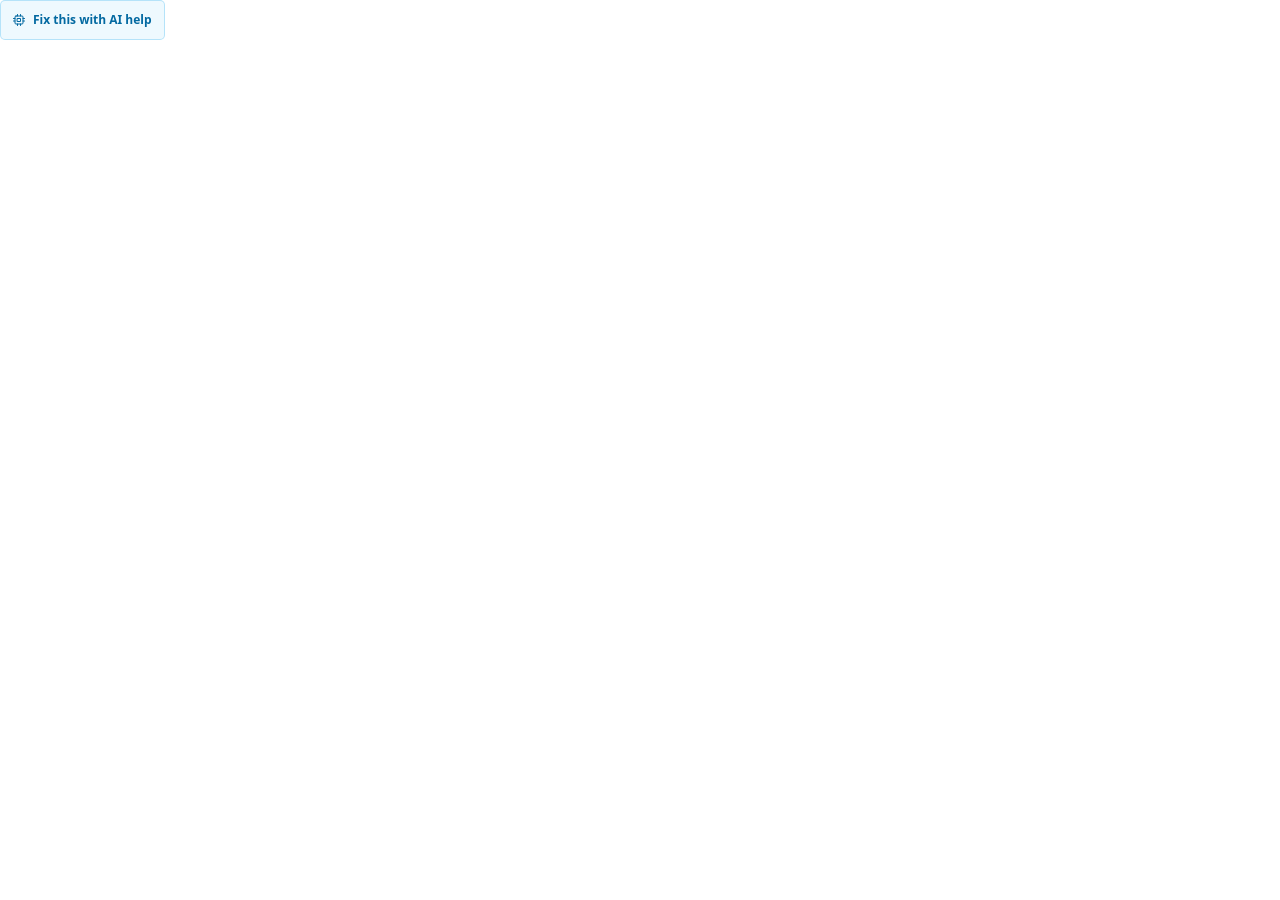
applying a remediation › offers to put it back once it has written
Later steps or results of the test are not shown.
Click the button "Fix this with AI help": (82, 20) [0,0,165,40]
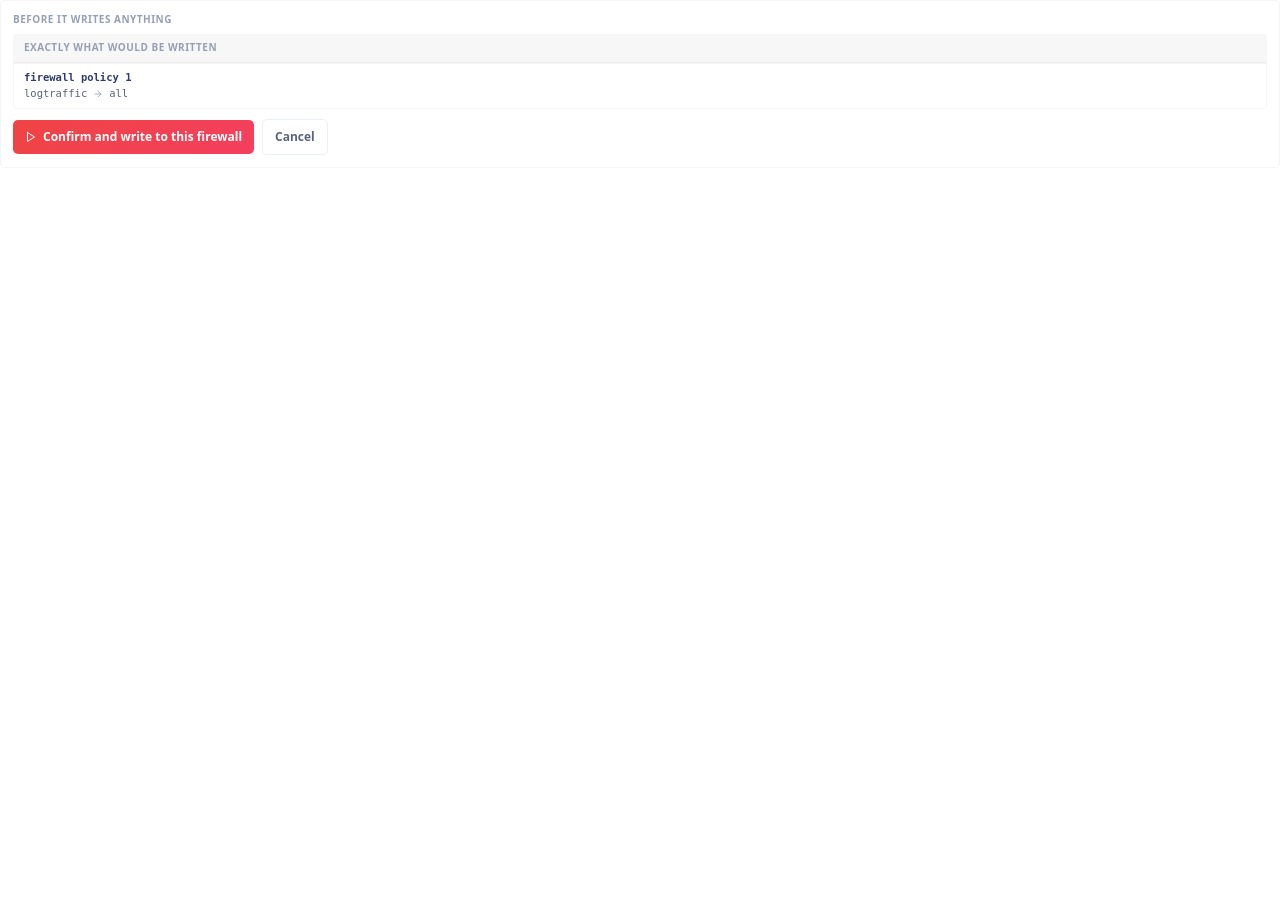
Click the button "Confirm and write to this firewall": (134, 136) [13,120,254,154]
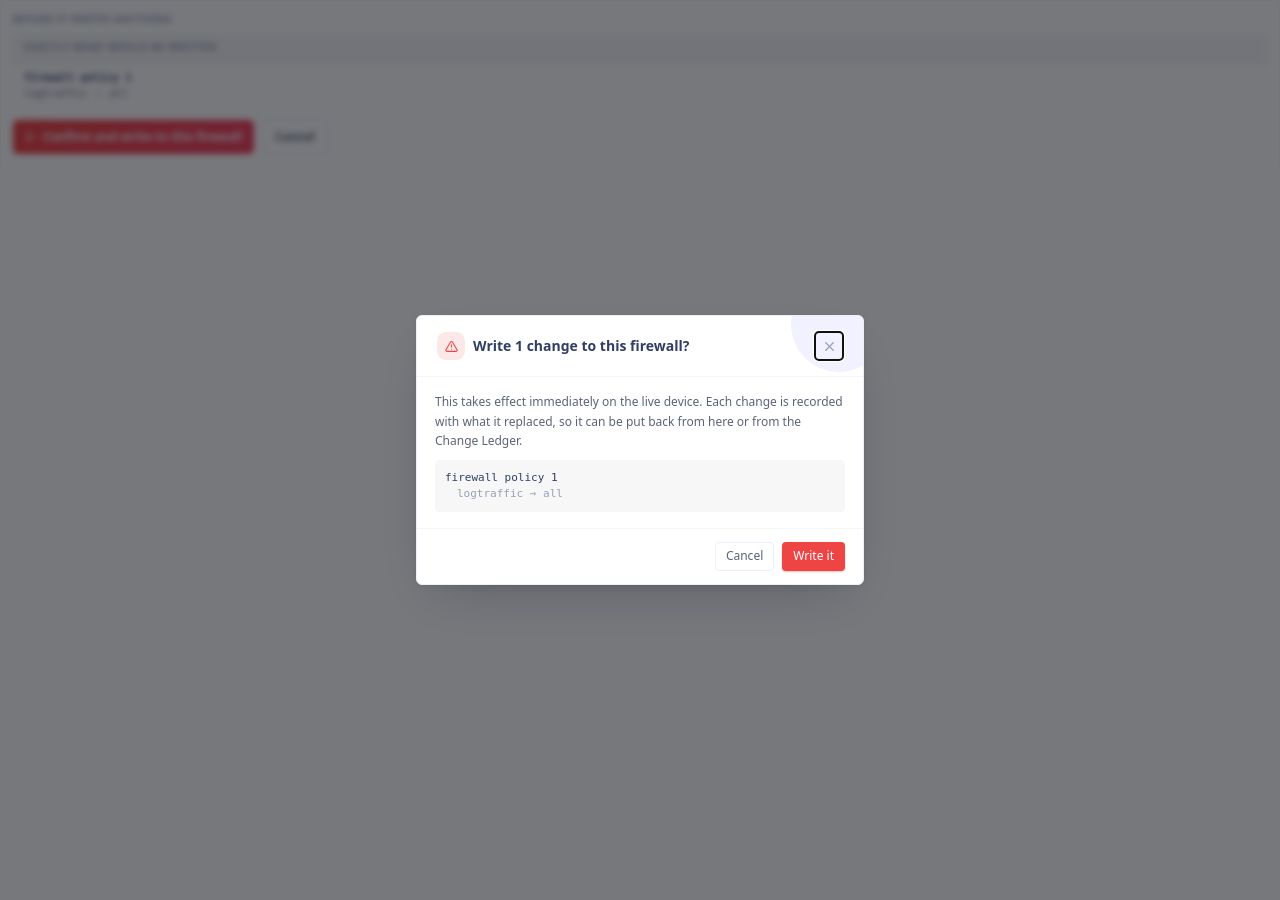
Click the button "Write it": (814, 556) [782,542,845,571]
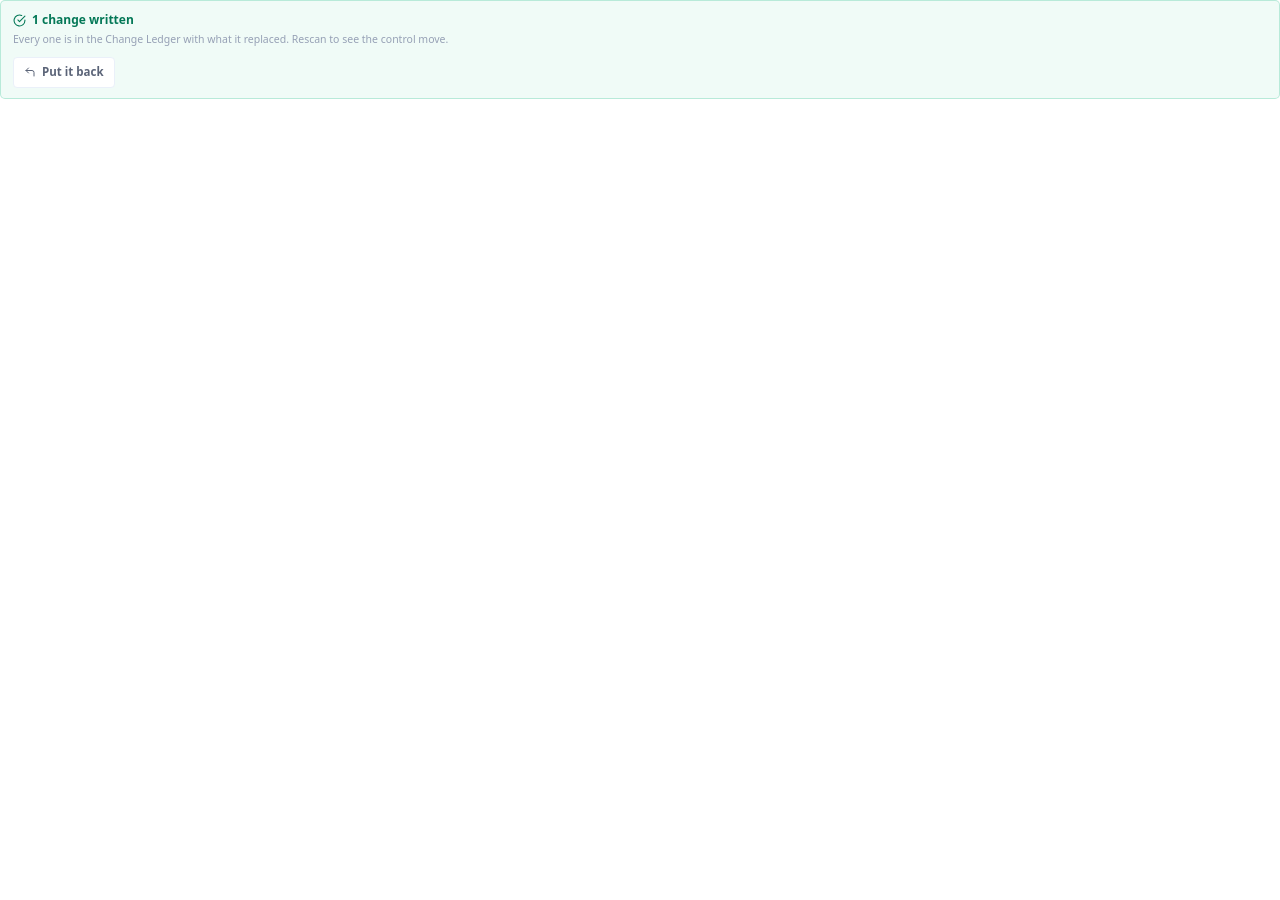
Expected: the text "Change Ledger" is shown, [13,32,448,48]
Expected: the text "1 change written" is shown, [13,11,134,29]
